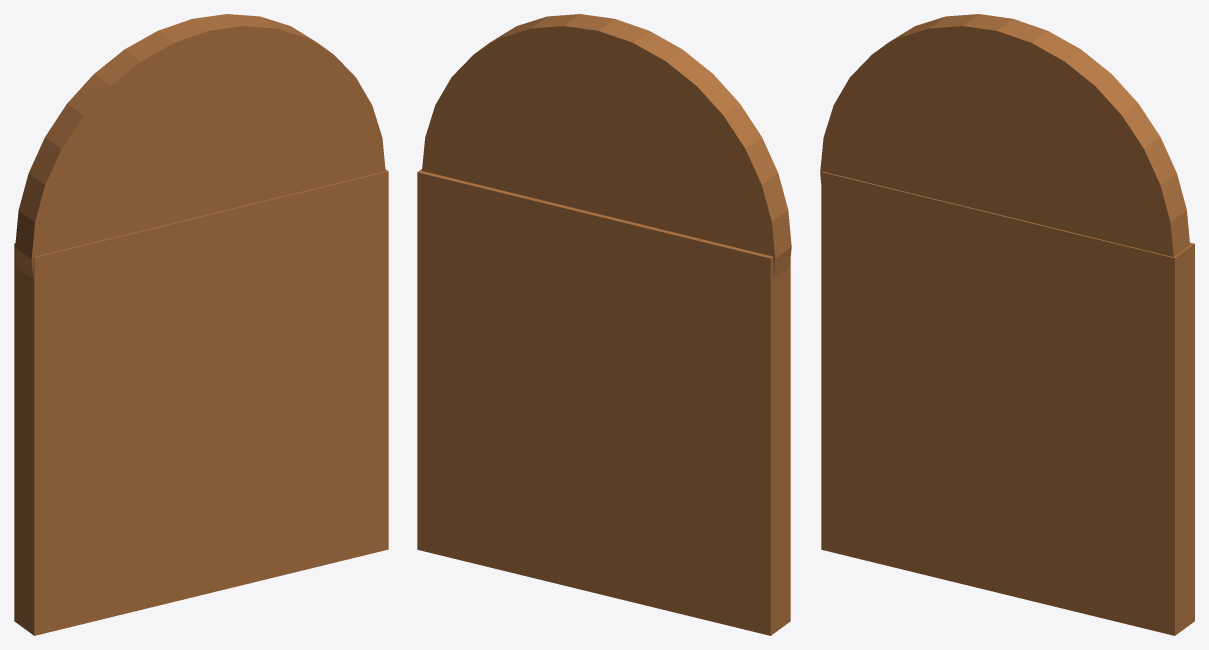
File: mouse_door_brown.fbx
3 renders of one model, left to right at view 1: azimuth 30°, elevation 25°; view 2: azimuth 150°, elevation 25°; view 3: azimuth 330°, elevation 25°, orthographic.
Visible parts, largest first — view 1: Cube, Cylinder; view 2: Cube, Cylinder; view 3: Cube, Cylinder.
Boxes of the visible parts, box(x1,y1,x2,y2) form: Cube: box(14, 169, 388, 635); Cylinder: box(15, 14, 385, 278); Cube: box(417, 169, 790, 635); Cylinder: box(422, 14, 791, 278); Cube: box(821, 171, 1194, 635); Cylinder: box(820, 14, 1189, 256).
Size of the model in its own units: 201 by 303 by 19.55.
